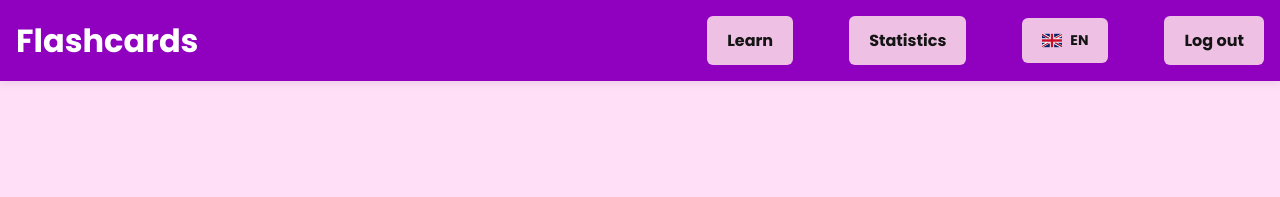
Navbar component › Shows language dropdown on hover
Step 1. Hover over the button "EN" → (1065, 40), box [1022,18,1108,63]
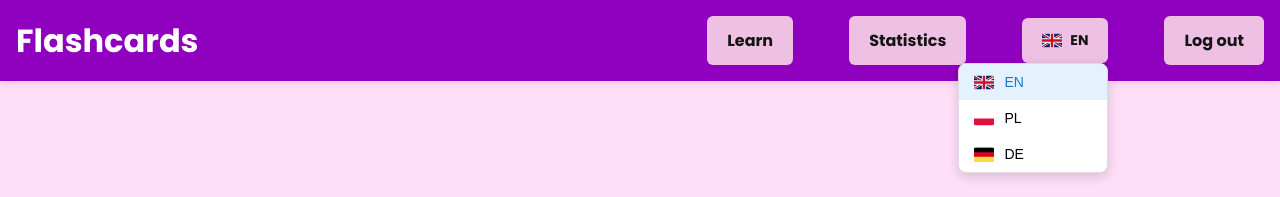
expect the text "PL" is shown: met, box [1004,110,1022,126]
expect the text "DE" is shown: met, box [1004,146,1024,162]
